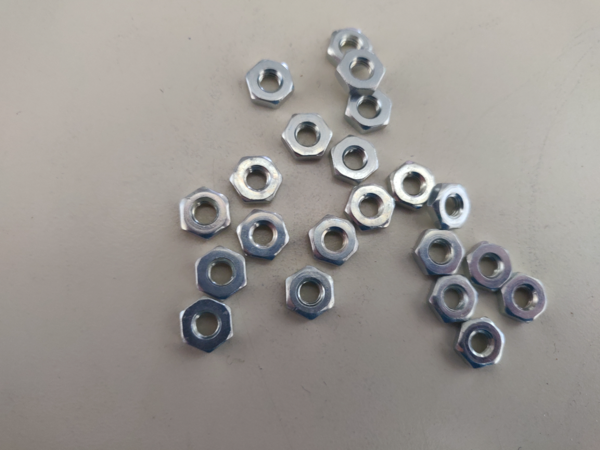nut: (180, 300, 235, 352), (309, 216, 361, 269), (286, 268, 338, 320), (196, 247, 249, 298), (347, 181, 398, 234), (230, 155, 283, 204), (181, 188, 232, 238), (332, 135, 378, 190), (284, 112, 335, 161), (457, 318, 505, 370), (247, 59, 296, 109), (238, 212, 288, 260), (503, 272, 549, 324), (431, 275, 479, 324), (417, 228, 464, 278), (342, 86, 393, 131), (336, 50, 389, 91), (468, 242, 514, 286), (391, 165, 433, 211), (431, 182, 473, 226), (327, 28, 376, 59)
